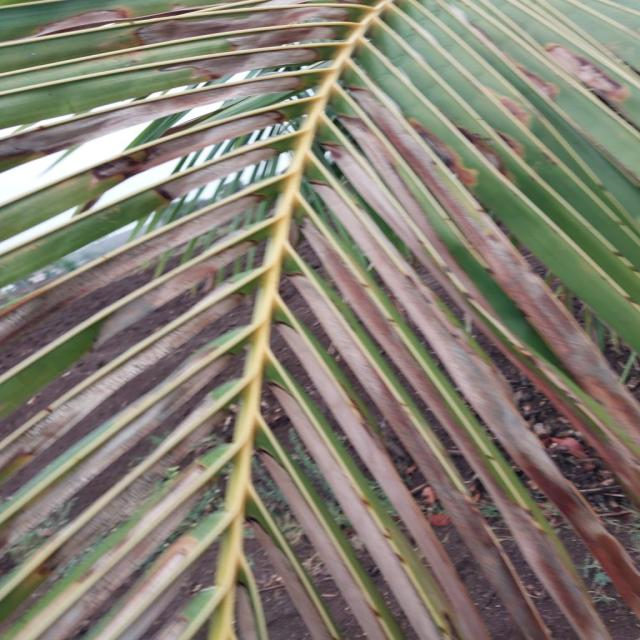gray leaf spot: (66, 0, 574, 640)
